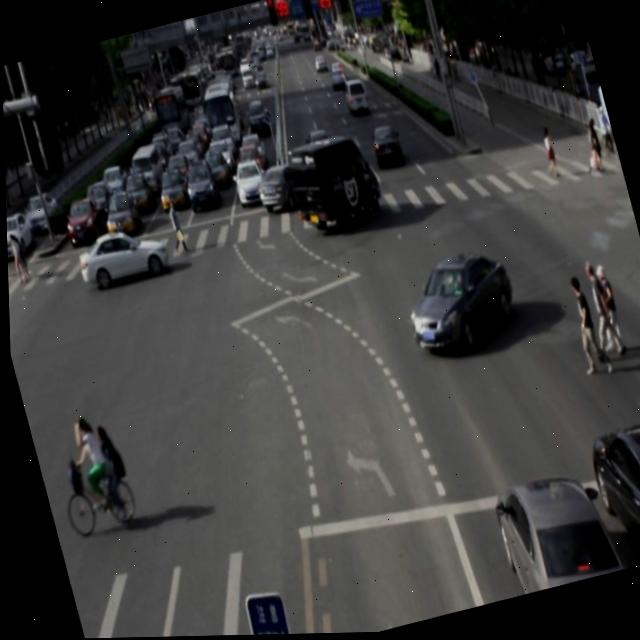car: (484, 465, 619, 599), (393, 245, 519, 360), (578, 416, 640, 573), (70, 219, 170, 296), (253, 160, 314, 215)
truck: (279, 125, 384, 235)
